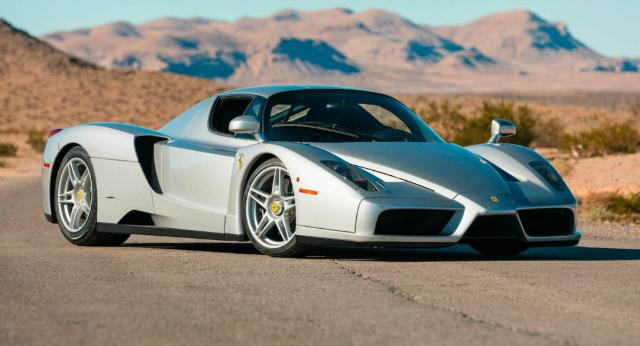ferrari: (40, 83, 582, 257)
